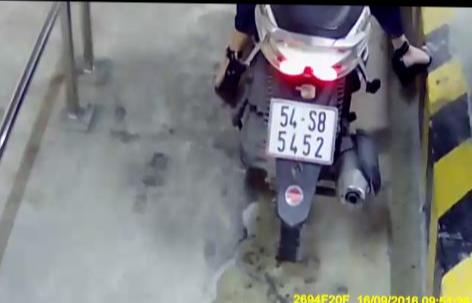LP: (264, 96, 338, 164)
